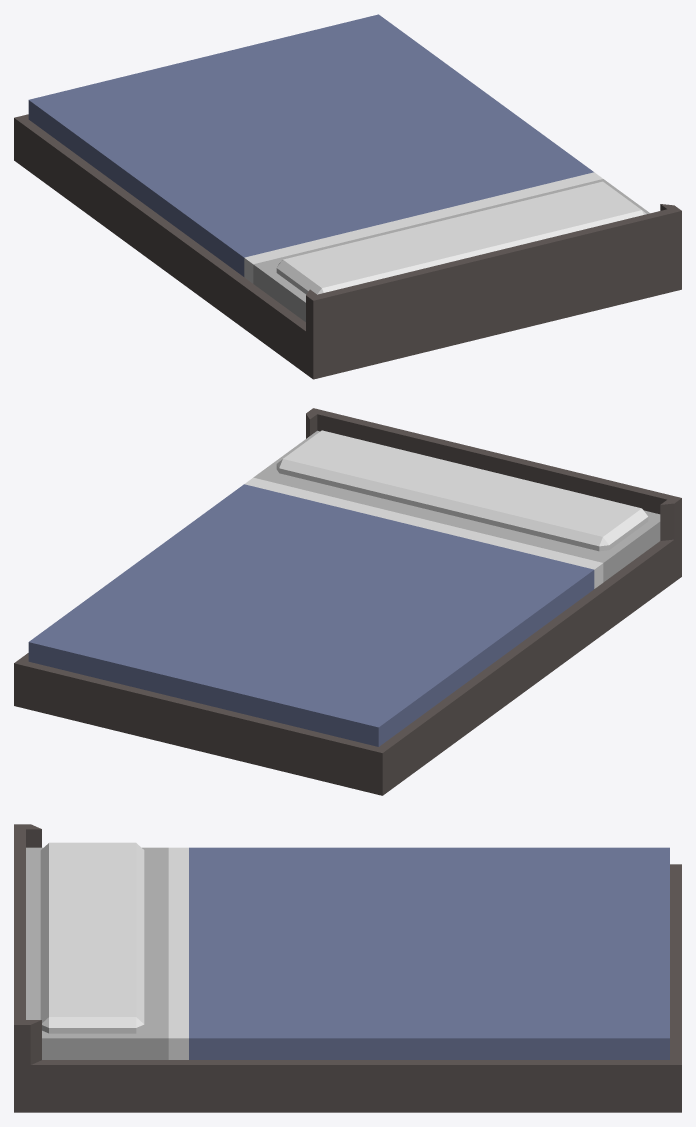
Rendered from Bed2.fbx.
3 views of the same model, one above another, from view 1: azimuth 30°, elevation 25°; view 2: azimuth 150°, elevation 25°; view 3: azimuth 270°, elevation 25° (orthographic). The views are drawn at different scales.
Visible parts, largest first — view 1: Cube; view 2: Cube; view 3: Cube.
Boxes of the visible parts, <box> form: Cube: <box>14,14,681,379</box>; Cube: <box>14,408,681,795</box>; Cube: <box>14,824,681,1112</box>.
Size of the model in its own units: 200 by 40.85 by 281.
